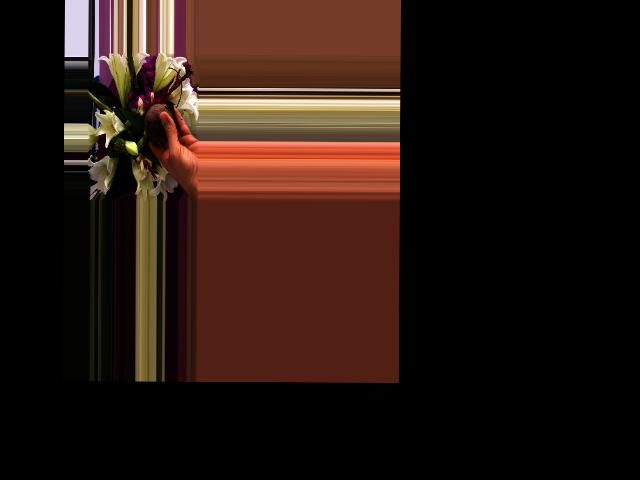beet: (137, 99, 175, 152)
